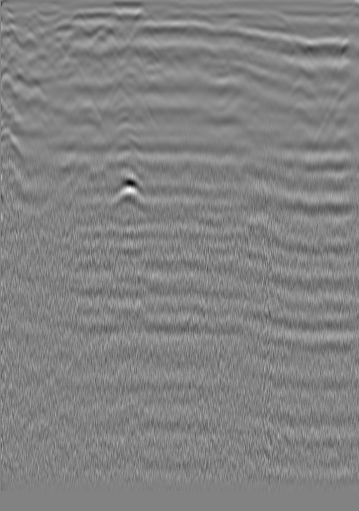가스: (106, 170, 155, 208)
상수: (27, 38, 47, 58)
오수: (299, 19, 319, 39)
우수: (171, 30, 191, 50)
